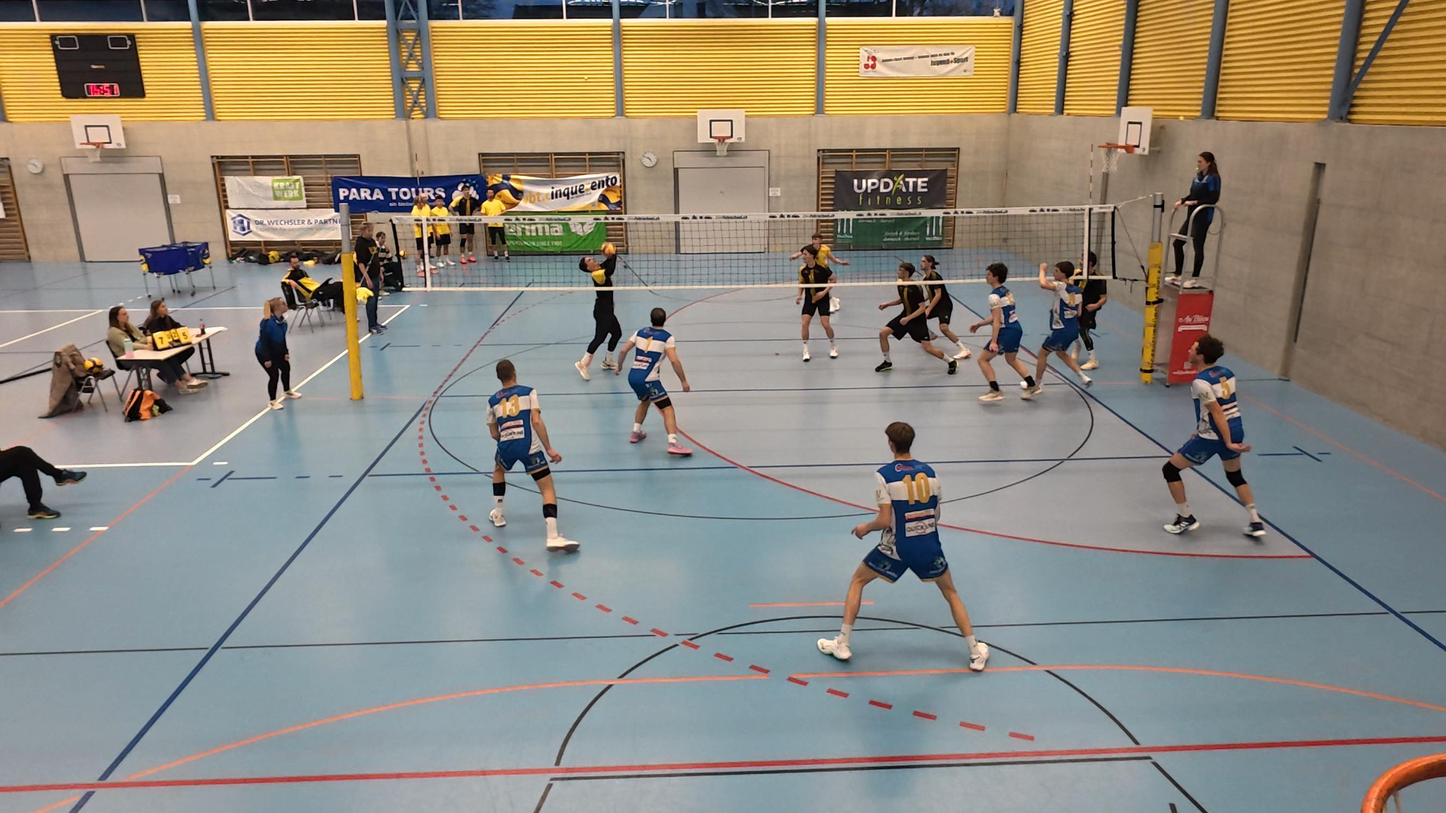alzata: (578, 233, 628, 384)
